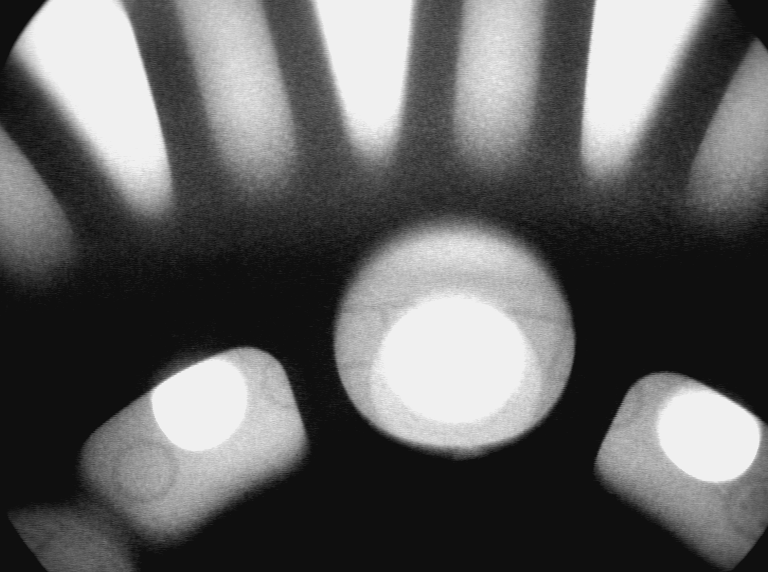defect: (451, 440, 484, 464)
